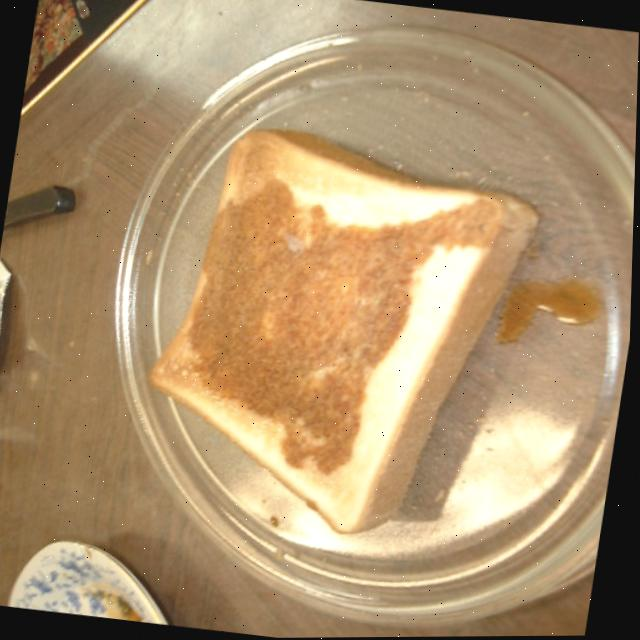面包点心: (124, 110, 557, 556)
